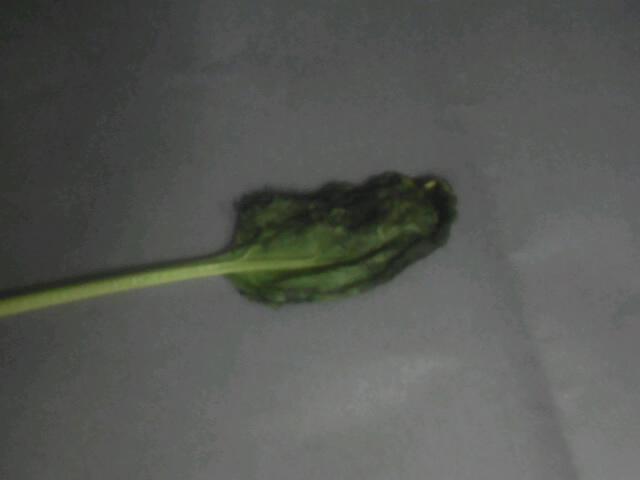yellow: (120, 170, 456, 314)
